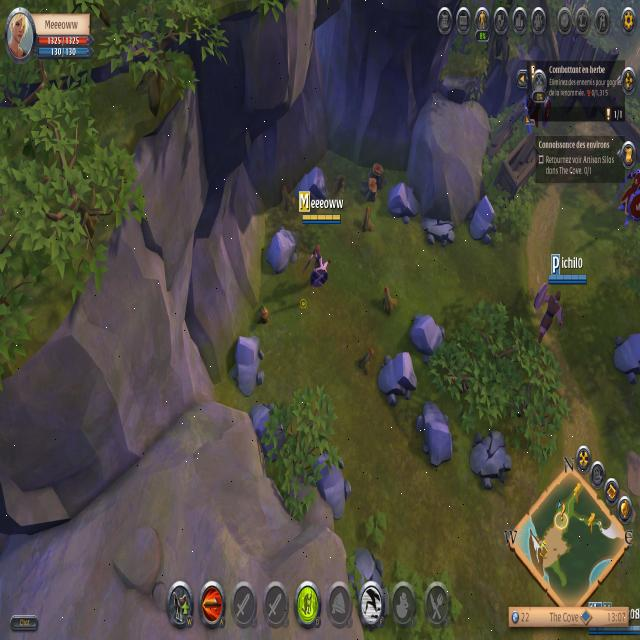broken stone: (468, 429, 514, 492), (352, 545, 388, 598), (420, 207, 457, 254)
stone: (412, 397, 456, 469), (311, 448, 355, 518), (246, 397, 287, 462), (230, 328, 266, 399), (377, 345, 418, 404), (408, 306, 449, 362), (611, 320, 639, 389), (266, 222, 300, 276), (386, 174, 421, 226), (467, 193, 498, 248), (295, 161, 328, 206)
